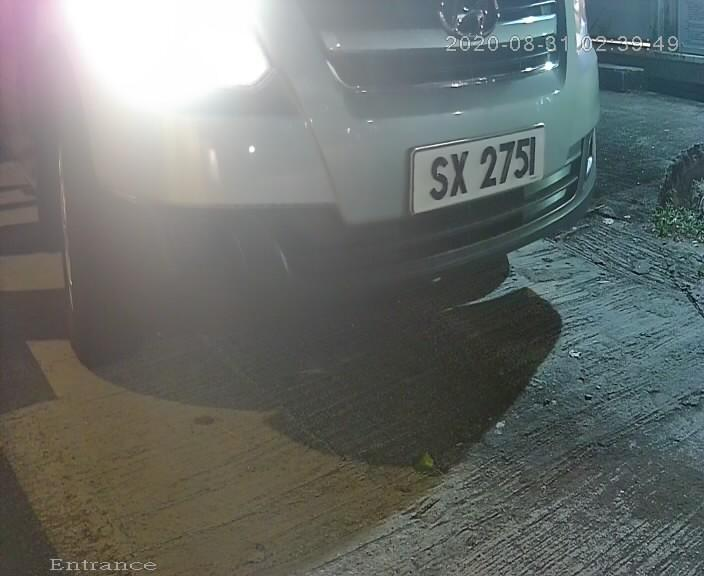License Plate: (397, 116, 551, 219)
